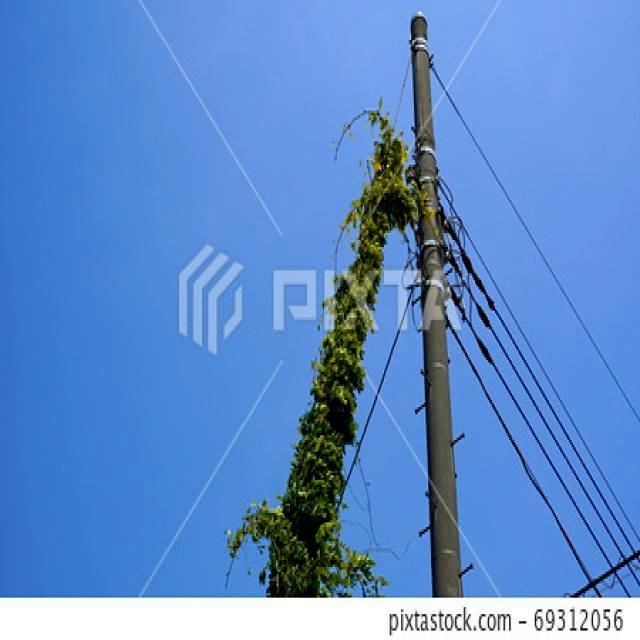light_pole: (284, 2, 532, 566)
